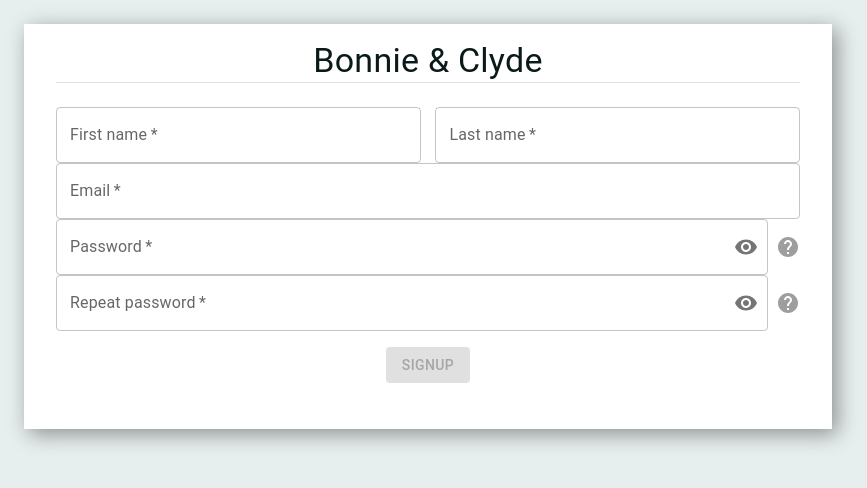
After completing the form and clicking the signup button error message appears: user already exists
Type "Gonzalo" into the field labelled "First name *" at (238, 135), box top-left (56, 107), bottom-right (420, 163)
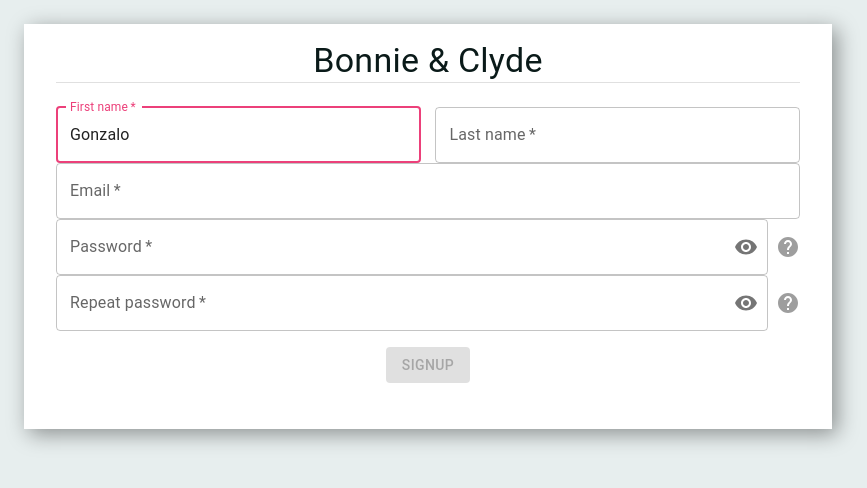
Type "Hernandez" into the field labelled "Last name *" at (618, 135), box top-left (435, 107), bottom-right (800, 163)
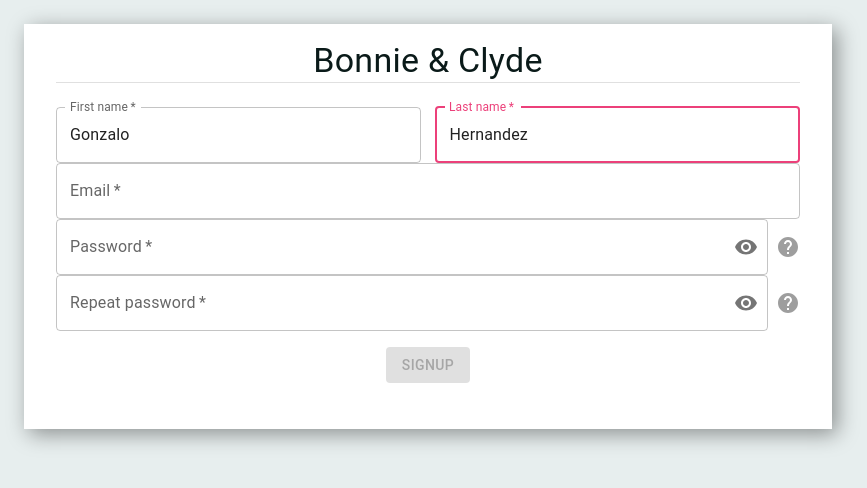
Type "hgonzalo2000@gmail.com" into the field labelled "Email *" at (428, 191), box top-left (56, 163), bottom-right (800, 219)
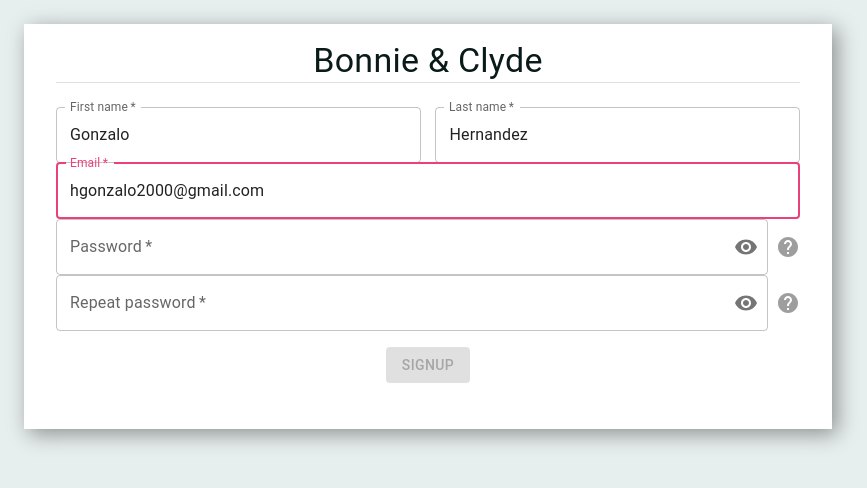
Type "Password123" into the password field labelled "Password *" at (387, 247), box top-left (56, 219), bottom-right (718, 275)
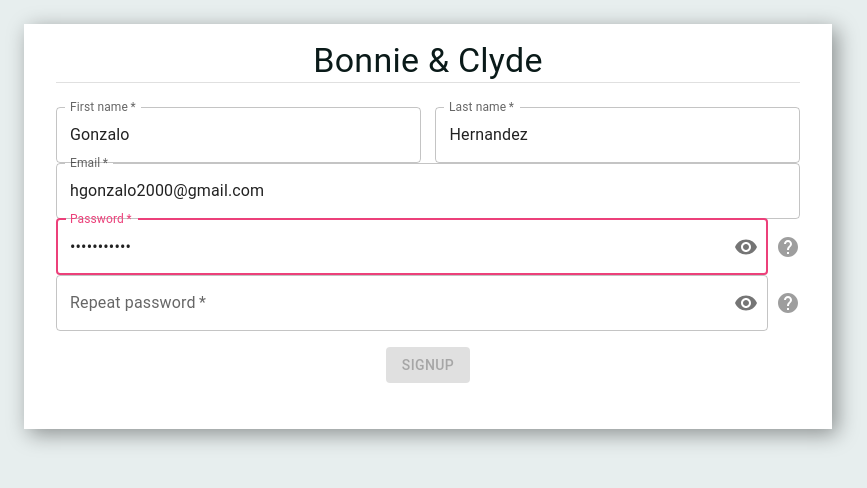
Type "Password123" into the password field labelled "Repeat password *" at (387, 303), box top-left (56, 275), bottom-right (718, 331)
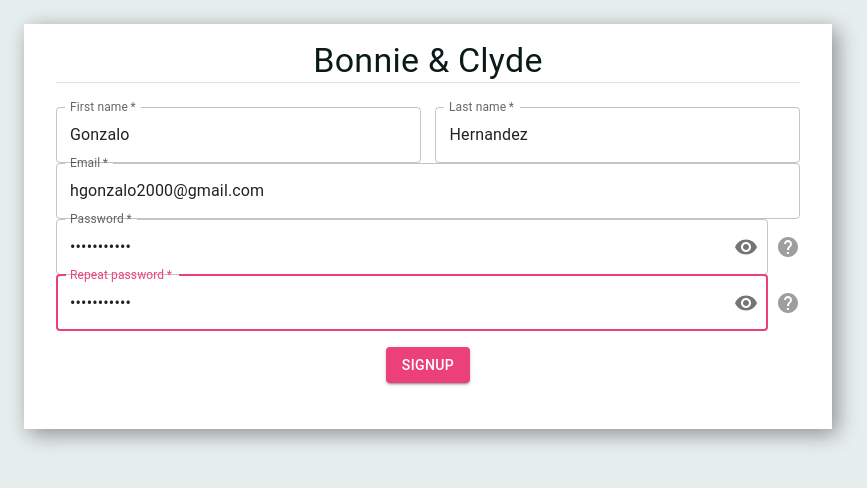
Click the button "Signup" at (428, 365), box top-left (386, 347), bottom-right (470, 384)
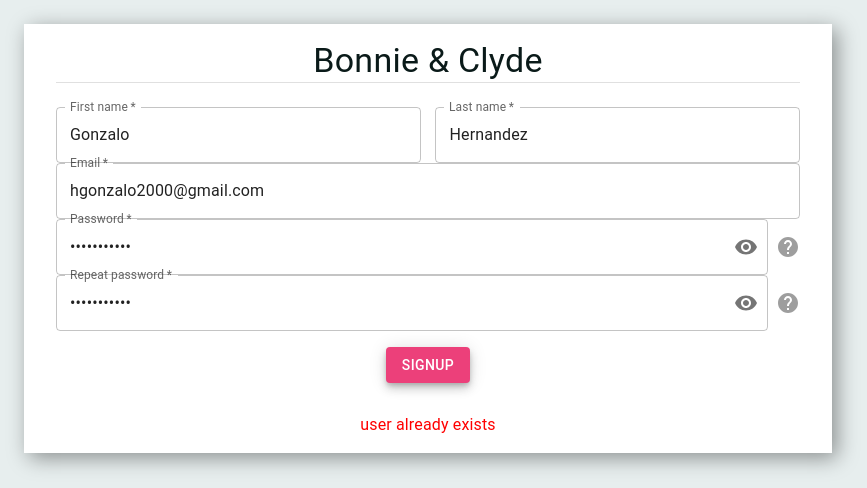
Result: the text "user already exists" is shown at top-left (360, 415), bottom-right (496, 434)
